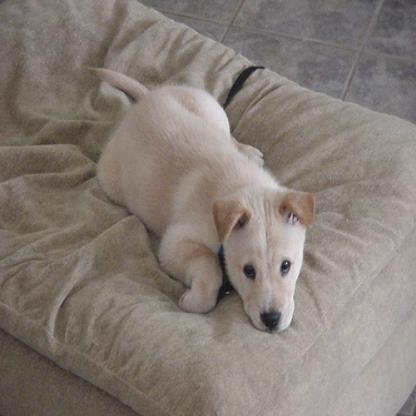dog: (88, 65, 314, 334)
